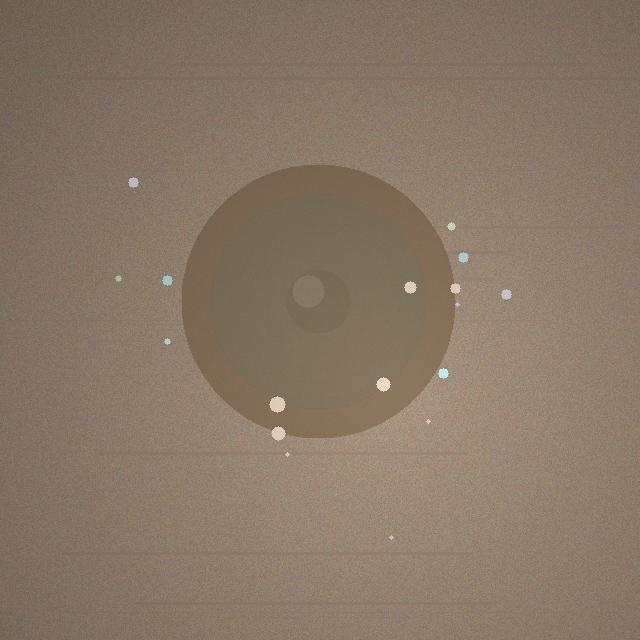overburn: (181, 164, 455, 438)
